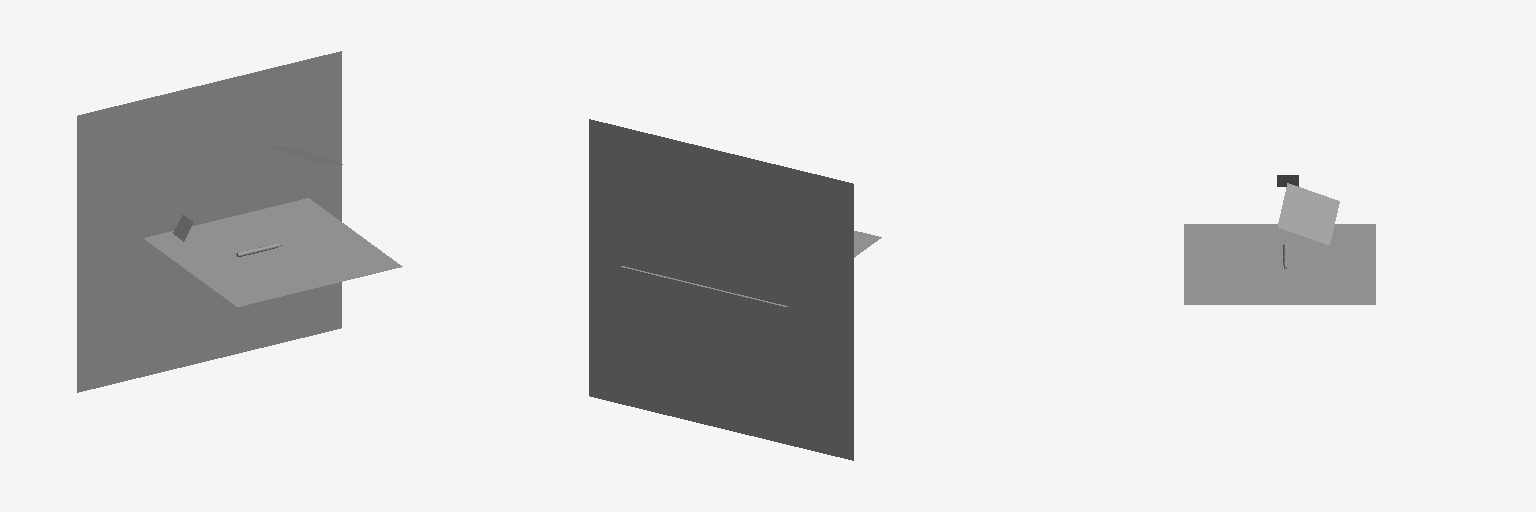
File: ecig.obj
3 views of the same model, side by side, from view 1: azimuth 30°, elevation 25°; view 2: azimuth 150°, elevation 25°; view 3: azimuth 270°, elevation 25° (orthographic).
Parts seen in each view (by area): view 1: Plane.003_back_Plane.003, Plane_Table_Plane; view 2: Plane.003_back_Plane.003, Plane_Table_Plane; view 3: Plane_Table_Plane, Plane.001_light_Plane.001.
Part boxes in pixels (bbox=[...]): Plane.003_back_Plane.003: bbox=[77, 51, 341, 392]; Plane_Table_Plane: bbox=[143, 198, 402, 306]; Plane.003_back_Plane.003: bbox=[589, 119, 853, 460]; Plane_Table_Plane: bbox=[621, 231, 881, 306]; Plane_Table_Plane: bbox=[1184, 224, 1375, 304]; Plane.001_light_Plane.001: bbox=[1278, 183, 1339, 245].
Size of the model in its own units: 48 by 48 by 30.